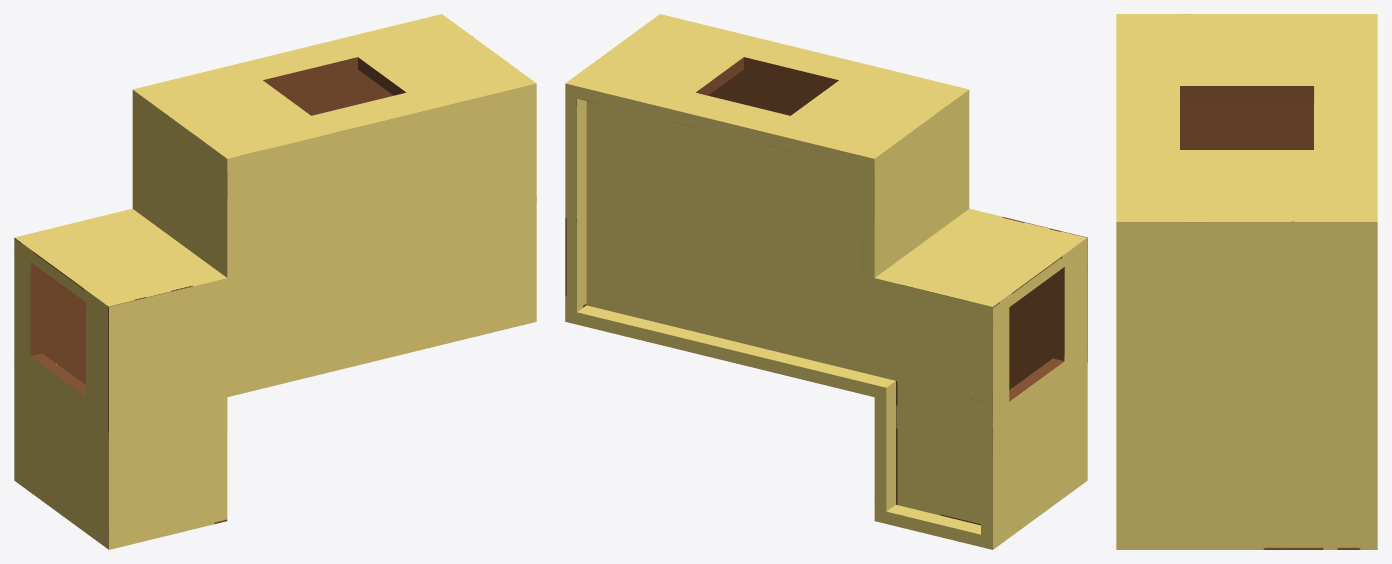
File: house_one.fbx
3 views of the same model, side by side, from view 1: azimuth 30°, elevation 25°; view 2: azimuth 150°, elevation 25°; view 3: azimuth 270°, elevation 25° (orthographic). The views are drawn at different scales.
Visible parts, largest first — view 1: Cube; view 2: Cube; view 3: Cube.
Part boxes in pixels (left/top/right/bottom): Cube: left=14, top=14, right=536, bottom=549; Cube: left=565, top=14, right=1087, bottom=549; Cube: left=1116, top=14, right=1377, bottom=549.
Bounding box in the file's own units: 1304 × 1055 × 501.
